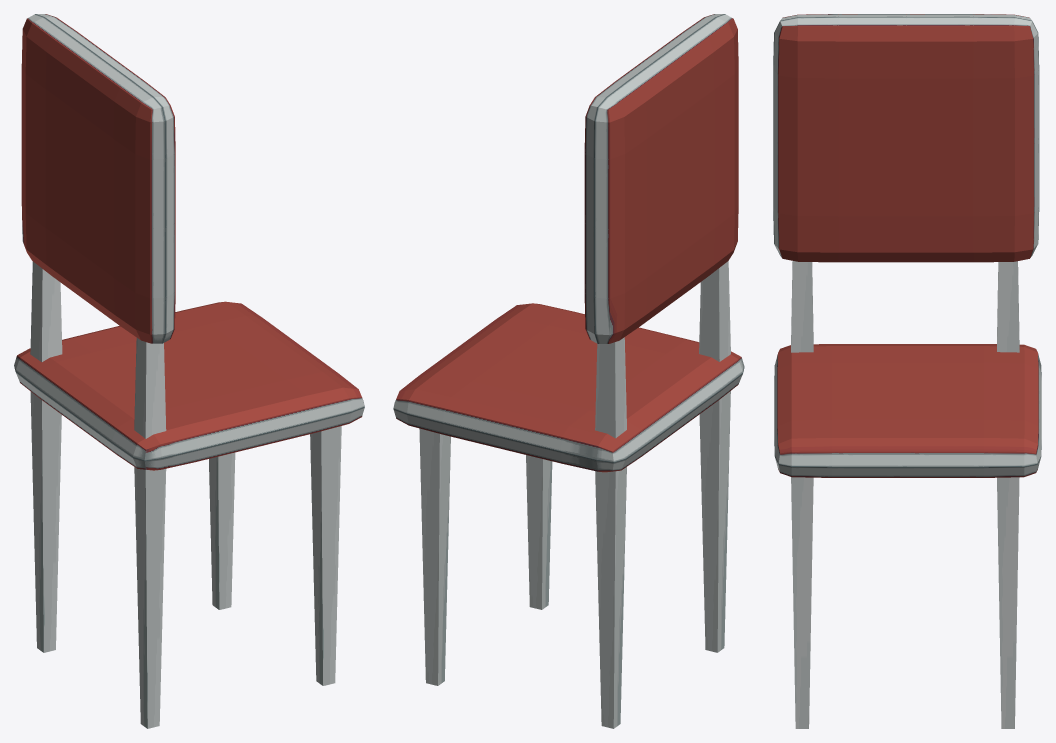
File: Cadeiraindividualpequenaevermelhacomtxt.fbx
3 renders of one model, left to right at view 1: azimuth 30°, elevation 25°; view 2: azimuth 150°, elevation 25°; view 3: azimuth 270°, elevation 25°, orthographic.
Visible parts, largest first — view 1: Cube.007; view 2: Cube.007; view 3: Cube.007.
Part boxes in pixels (x1,y1,x2,y2): Cube.007: [14, 14, 364, 728]; Cube.007: [393, 14, 744, 728]; Cube.007: [773, 14, 1041, 728].
Bounding box in the file's own units: 197 × 511 × 199.
2 materials, 2 textured.
